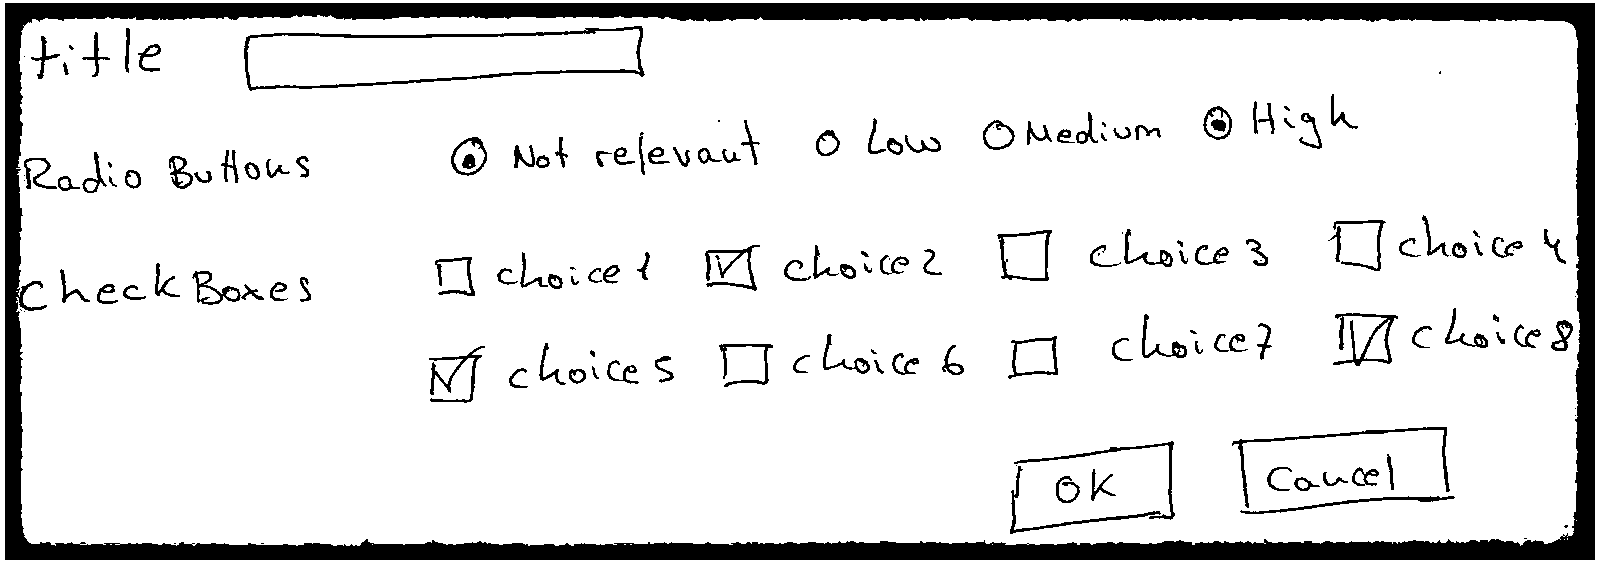Button: (1229, 420, 1461, 520), (1004, 435, 1184, 536)
Check Box: (990, 220, 1270, 295), (1008, 310, 1278, 384), (1331, 291, 1578, 369), (1331, 203, 1569, 281), (418, 340, 680, 408), (716, 324, 969, 389), (700, 234, 949, 297), (429, 248, 657, 301)
Heading: (24, 24, 178, 85)
Radio Button: (445, 110, 767, 187), (1196, 85, 1357, 150)
Textbox: (239, 22, 653, 99)
